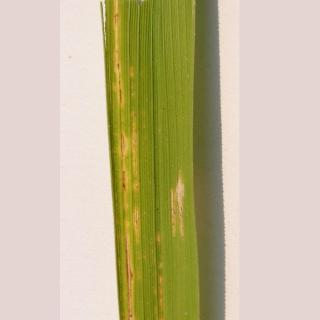Hawar-Daun: (108, 4, 142, 320), (162, 166, 190, 241)
